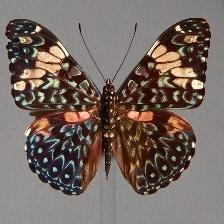butterfly: (6, 18, 212, 195)
